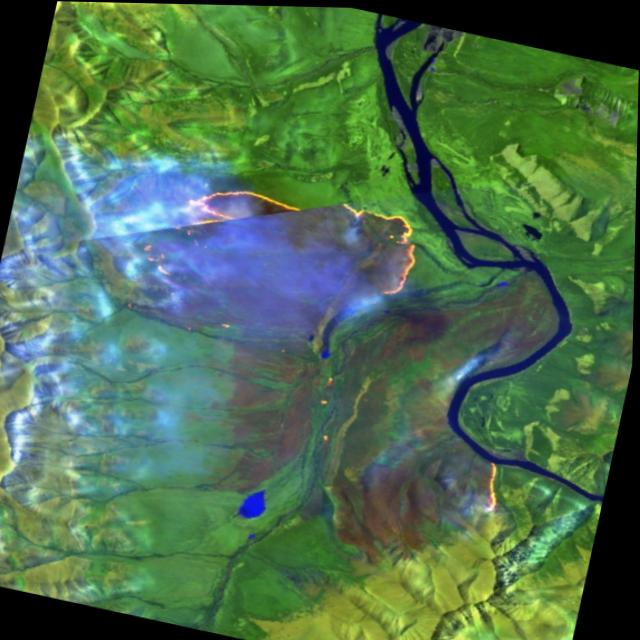fire: (98, 154, 432, 335), (463, 449, 519, 520)
